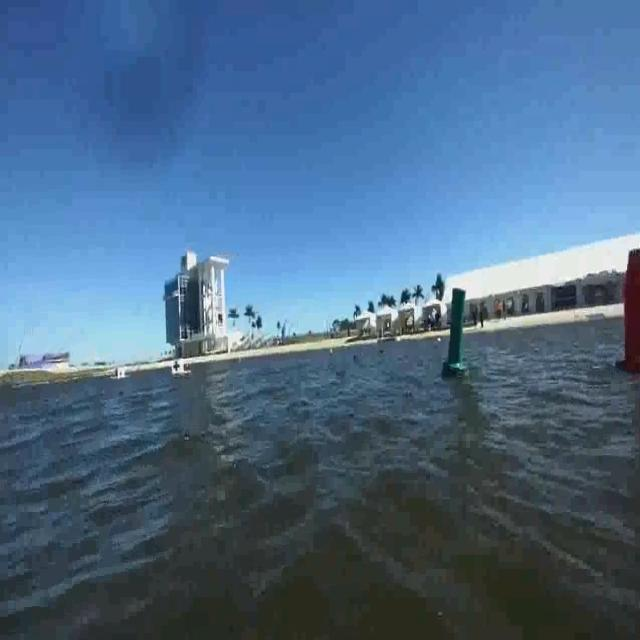green-column-buoy: (446, 286, 470, 379)
red-column-buoy: (617, 244, 640, 372)
